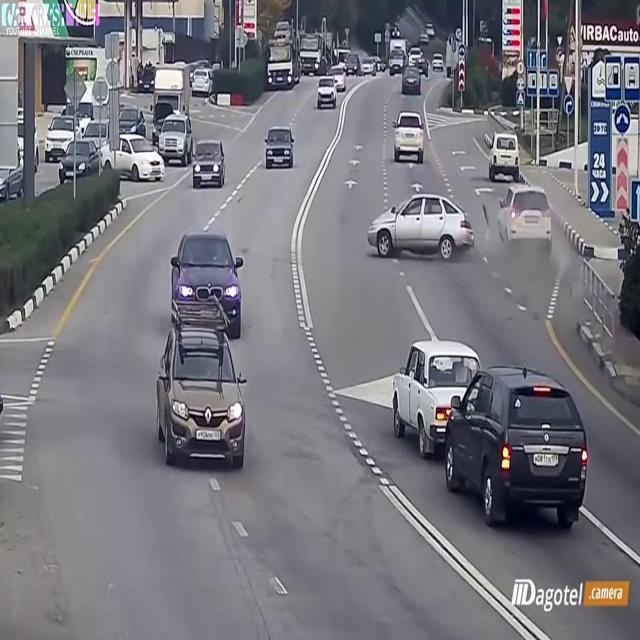Accident: (356, 173, 562, 281)
